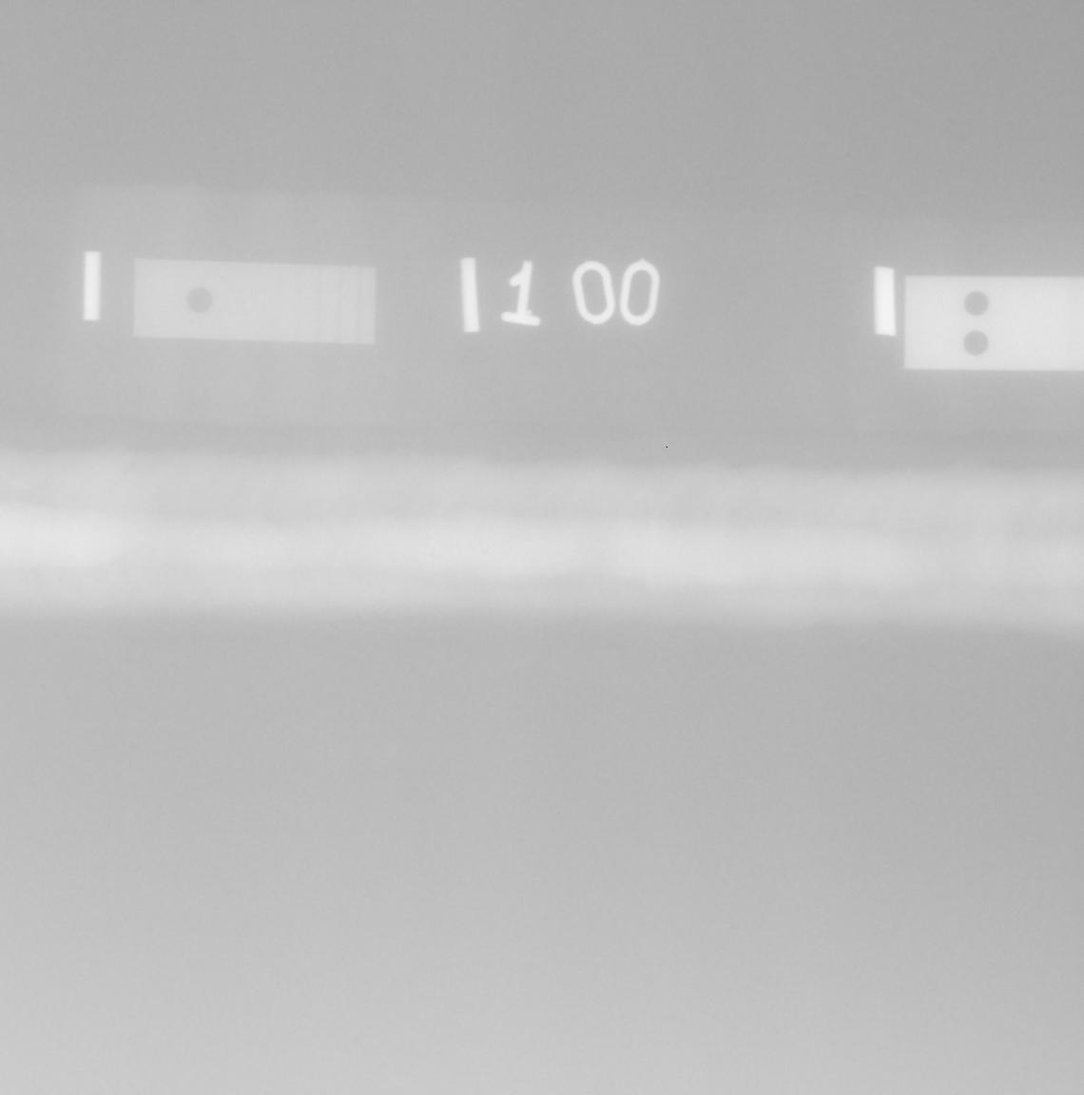Pore/Porosity: (49, 518, 55, 524), (428, 553, 434, 558), (36, 574, 41, 579), (481, 550, 486, 554), (726, 534, 730, 538)
